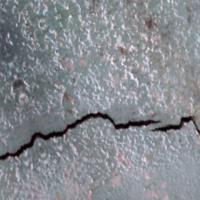crack: (0, 86, 197, 176)
